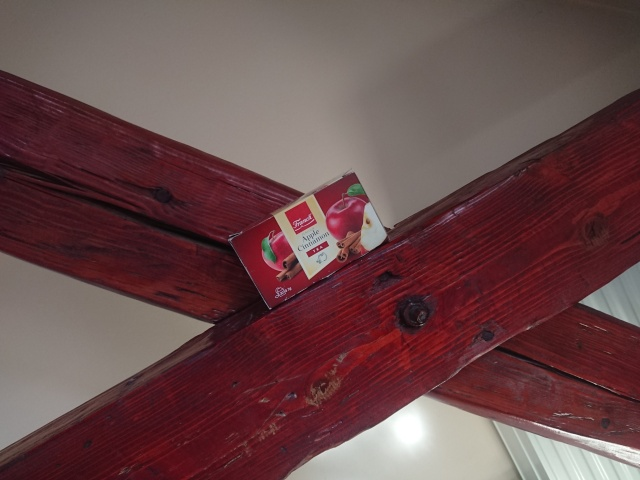Franck Apple Cinnamon Tea 60g: (226, 167, 392, 312)
